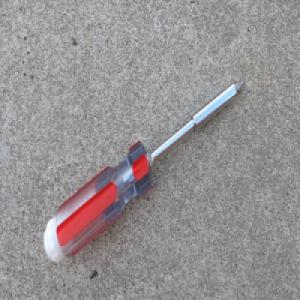Screwdriver: (43, 80, 244, 264)
